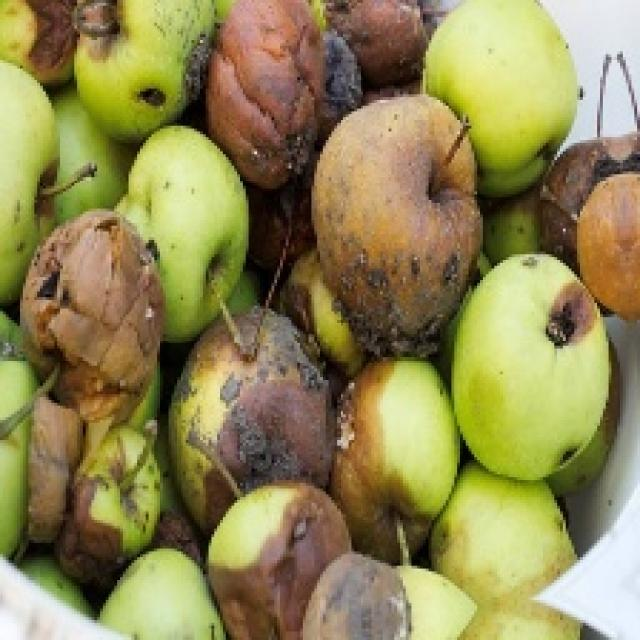rotten_apple: (315, 98, 481, 349), (22, 211, 161, 413), (177, 317, 330, 486), (337, 361, 449, 563), (210, 0, 322, 188), (207, 484, 309, 637), (79, 426, 164, 558), (579, 173, 640, 322), (332, 0, 432, 86), (310, 561, 414, 640), (0, 0, 80, 86)
